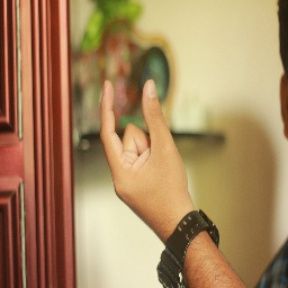U: (93, 71, 186, 210)
